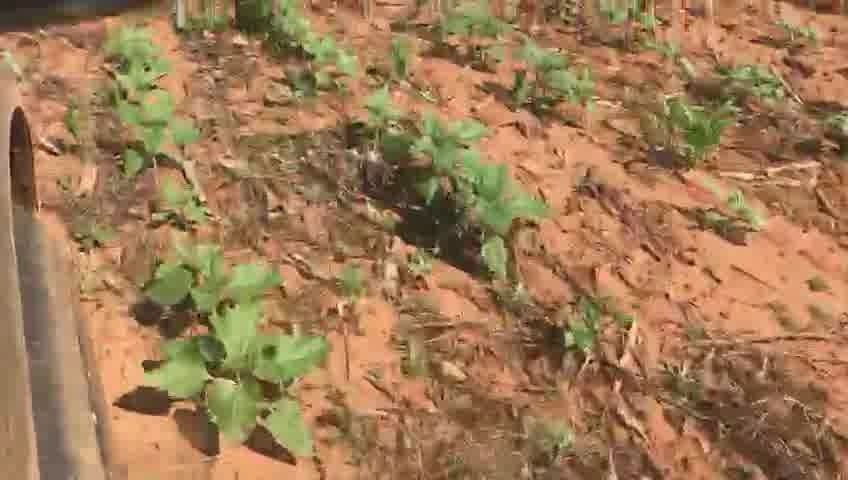sunflower: (144, 306, 331, 460), (455, 161, 553, 283), (152, 249, 280, 325), (389, 111, 490, 206), (105, 88, 201, 181), (508, 43, 594, 119), (99, 27, 181, 103), (438, 5, 515, 69), (564, 288, 626, 364), (152, 171, 220, 233), (298, 32, 365, 91), (702, 190, 768, 243), (354, 83, 403, 150)
